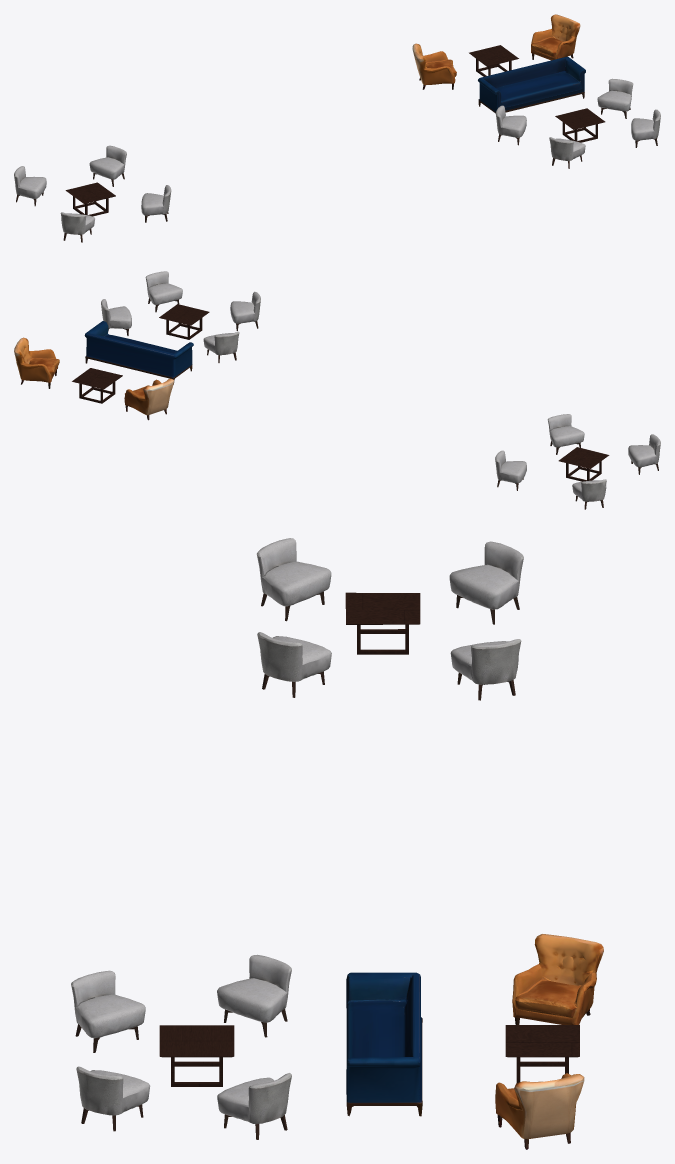
The model's file is Chancery Rosewood_Pavillion_FURNITURE_BAKE_V4.glb.
The picture shows the model from 3 angles, top to bottom: view 1: azimuth 30°, elevation 25°; view 2: azimuth 150°, elevation 25°; view 3: azimuth 270°, elevation 25°; orthographic projection. The views are drawn at different scales.
Visible parts, largest first — view 1: West Pavillion Furniture; view 2: West Pavillion Furniture; view 3: West Pavillion Furniture.
Boxes of the visible parts, x1,y1,x2,y2 form: West Pavillion Furniture: (14, 14, 660, 242); West Pavillion Furniture: (14, 271, 660, 509); West Pavillion Furniture: (71, 538, 603, 1149).
Bounding box in the file's own units: 14.32 × 0.8452 × 5.73.
Materials: 4 (4 with a texture image).
